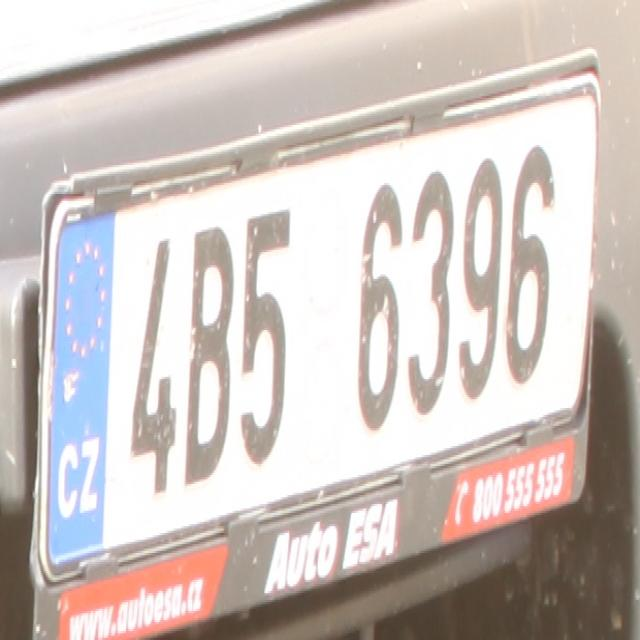3: (408, 169, 451, 426)
4: (129, 230, 177, 493)
5: (241, 205, 291, 473)
6: (352, 180, 404, 430), (506, 140, 553, 386)
9: (458, 154, 501, 404)
B: (183, 225, 232, 482)
